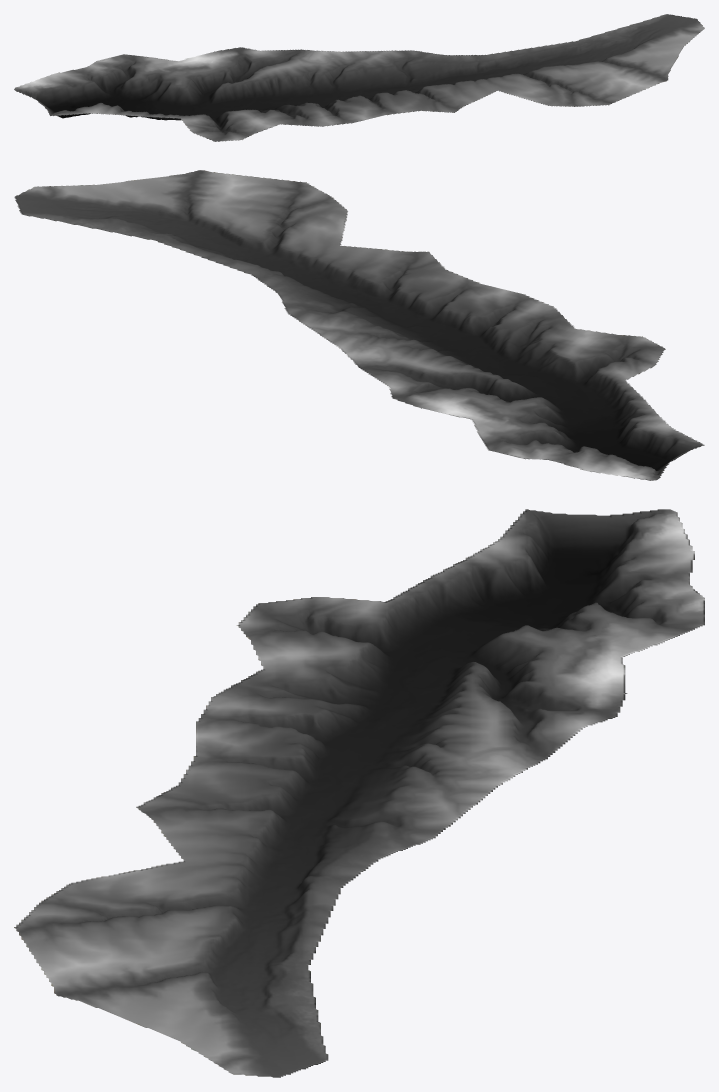
The model's file is hisorak_2025.glb.
3 renders of one model, top to bottom at view 1: azimuth 30°, elevation 25°; view 2: azimuth 150°, elevation 25°; view 3: azimuth 270°, elevation 25°, orthographic. The views are drawn at different scales.
Parts seen in each view (by area): view 1: Gisorak_CMM_UTM42+EGM08; view 2: Gisorak_CMM_UTM42+EGM08; view 3: Gisorak_CMM_UTM42+EGM08.
Part boxes in pixels (left/top/right/bottom): Gisorak_CMM_UTM42+EGM08: left=14, top=14, right=704, bottom=141; Gisorak_CMM_UTM42+EGM08: left=14, top=170, right=704, bottom=480; Gisorak_CMM_UTM42+EGM08: left=14, top=509, right=704, bottom=1077.
Bounding box in the file's own units: 6.69 × 0.1464 × 3.44.
Materials: 1 (1 with a texture image).
